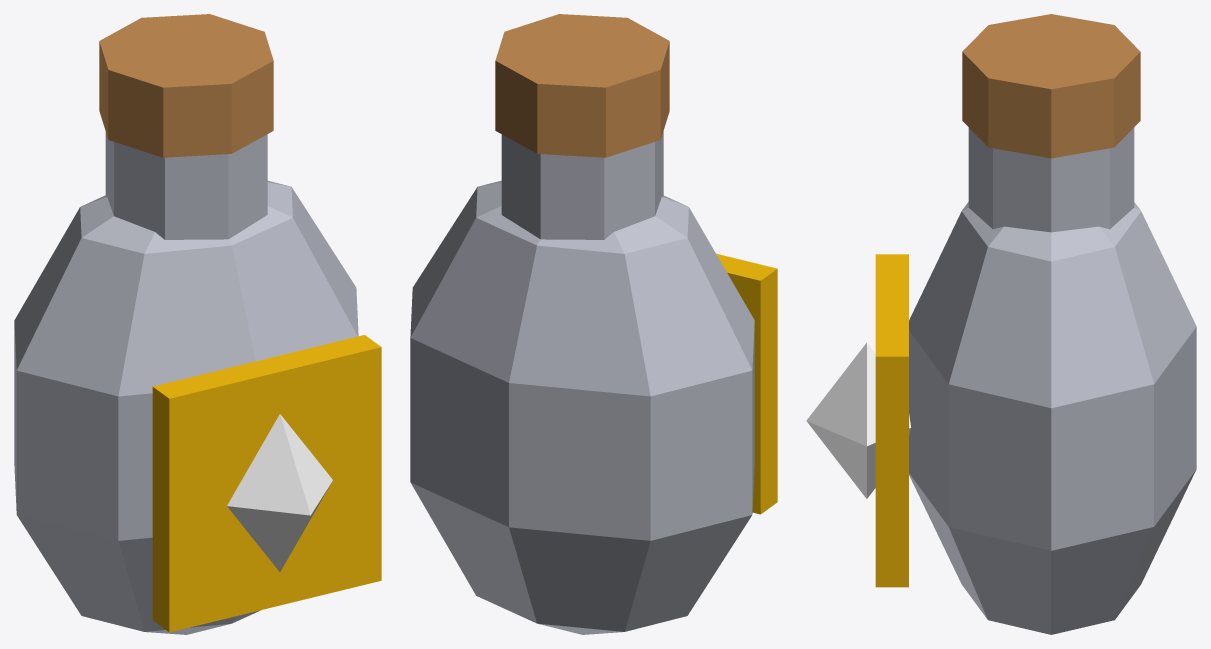
The model's file is collectors_vial.glb.
3 views of the same model, side by side, from view 1: azimuth 30°, elevation 25°; view 2: azimuth 150°, elevation 25°; view 3: azimuth 270°, elevation 25° (orthographic).
Visible parts, largest first — view 1: collectors_vial_Mesh; view 2: collectors_vial_Mesh; view 3: collectors_vial_Mesh.
Boxes of the visible parts, box(x1,y1,x2,y2) form: collectors_vial_Mesh: box(14, 14, 381, 634); collectors_vial_Mesh: box(410, 14, 777, 634); collectors_vial_Mesh: box(806, 14, 1196, 634).
Bounding box in the file's own units: 0.3043 × 0.5 × 0.3067.
